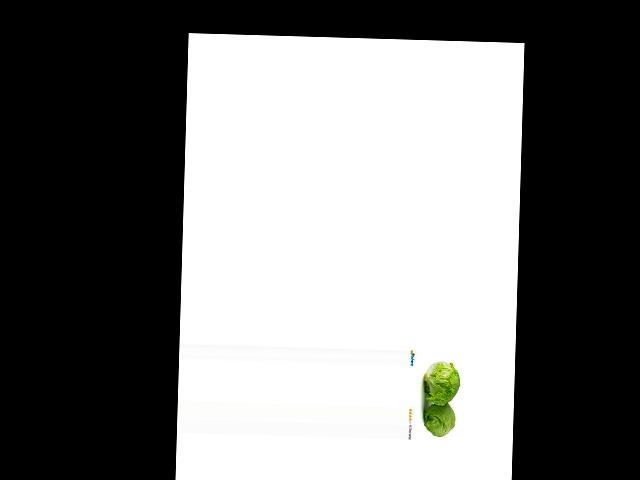lettuce: (415, 392, 456, 438)
